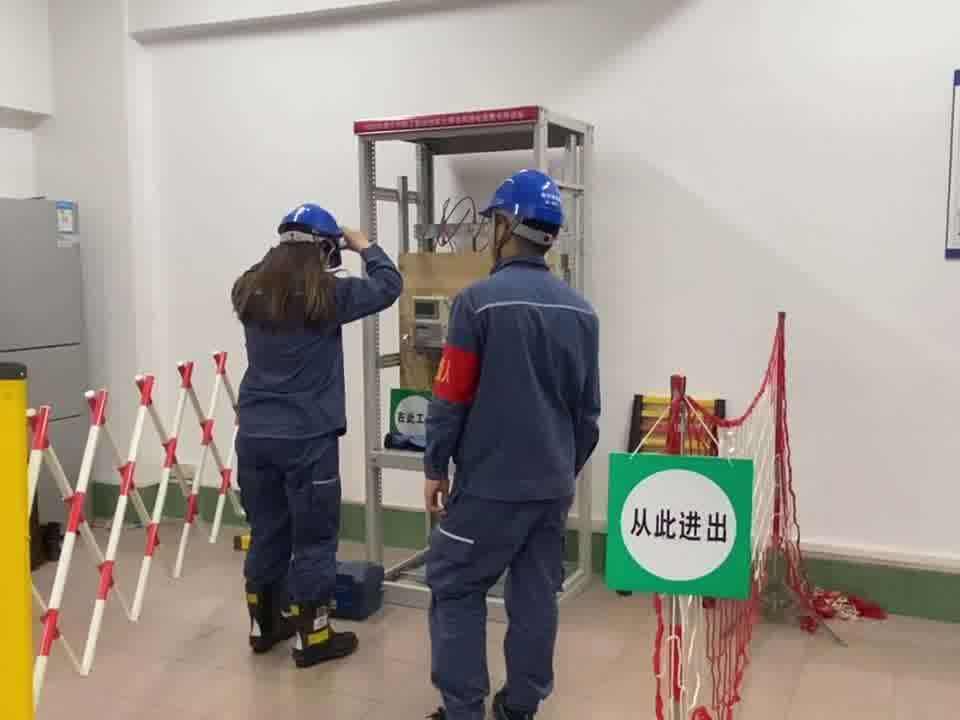badge: (432, 344, 483, 406)
downsuit: (424, 510, 566, 719), (232, 439, 351, 596)
hair: (231, 203, 344, 326)
halt: (481, 168, 569, 253)
hand: (421, 479, 452, 516), (337, 226, 370, 254)
inear: (484, 213, 521, 255)
intosign: (605, 450, 757, 605)
person: (415, 163, 606, 720), (223, 199, 403, 667)
shoe: (242, 580, 360, 666)
upsuit: (423, 258, 605, 501), (232, 235, 402, 430)
worksign: (388, 386, 431, 435)
